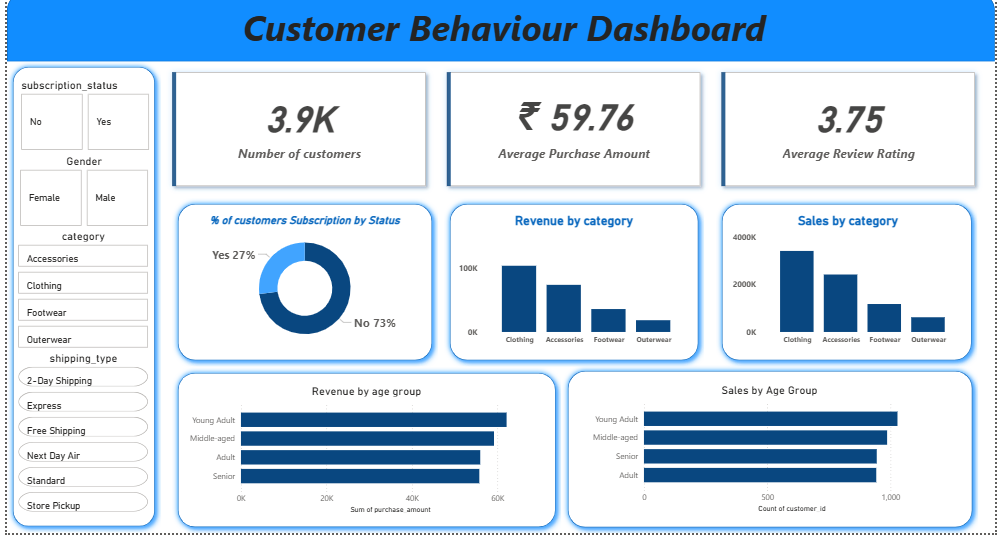

This screenshot's page, from the dashboard's own definition file:
{"tool":"powerbi","page":{"name":"Page 1","canvas":[1500,820],"ordinal":0},"visuals":[{"type":"cardVisual","fields":{"Data":["public customer.Number of customers","public customer.Average Purchase Amount","public customer.Average Review Rating"]},"box":[233.5,104,1254.5,208],"z":0},{"type":"shape","box":[0,0,1500,104],"z":1000},{"type":"textbox","box":[17,10.2,1471,93.8],"z":2000},{"type":"shape","box":[250.6,311.9,404,255.7],"z":3000},{"type":"donutChart","title":"% of customers Subscription by Status","fields":{"Category":["public customer.subscription_status"],"Y":["Count(public customer.customer_id)"]},"box":[267.6,334.1,369.9,209.7],"z":4000},{"type":"shape","box":[663.1,311.9,395.5,255.7],"z":5000},{"type":"shape","box":[1077.3,311.9,397.2,255.7],"z":6000},{"type":"clusteredColumnChart","title":"Revenue by category","fields":{"Y":["Sum(public customer.purchase_amount)"],"Category":["public customer.category"]},"box":[680.1,334.1,361.4,209.7],"z":7000},{"type":"clusteredColumnChart","title":"Sales by category","fields":{"Y":["Sum(public customer.customer_id)"],"Category":["public customer.category"]},"box":[1096,334.1,361.4,209.7],"z":8000},{"type":"shape","box":[0,104,233.5,715.9],"z":9000},{"type":"advancedSlicerVisual","fields":{"Values":["public customer.subscription_status"]},"box":[17,129.5,204.5,114.2],"z":10000},{"type":"advancedSlicerVisual","fields":{"Values":["public customer.gender"]},"box":[15.3,243.8,204.5,114.2],"z":11000},{"type":"advancedSlicerVisual","fields":{"Values":["public customer.category"]},"box":[11.9,358,208,185.8],"z":12000},{"type":"advancedSlicerVisual","fields":{"Values":["public customer.shipping_type"]},"box":[11.9,543.8,208,252.3],"z":13000},{"type":"shape","box":[250.6,567.6,591.5,252.3],"z":15000},{"type":"clusteredBarChart","title":"Revenue by age group","fields":{"Category":["public customer.age_group"],"Y":["Sum(public customer.purchase_amount)"]},"box":[267.6,593.2,557.4,201.1],"z":15001},{"type":"shape","box":[842,564.2,632.4,255.7],"z":15002},{"type":"clusteredBarChart","title":"Sales by Age Group","fields":{"Category":["public customer.age_group"],"Y":["CountNonNull(public customer.customer_id)"]},"box":[879.5,591.5,557.4,201.1],"z":15003}]}

Visuals, with their boxes in screenshot pixels (x1, y1, x2, y2), scaled from the page's 1500x820 canvas onto the 998x535 screenshot:
cardVisual - public customer.Number of customers x public customer.Average Purchase Amount: [155,68,990,204]
shape: [0,0,997,68]
textbox: [11,7,990,68]
shape: [167,203,436,370]
"% of customers Subscription by Status" donutChart: [178,218,424,355]
shape: [441,203,704,370]
shape: [717,203,981,370]
"Revenue by category" clusteredColumnChart: [452,218,693,355]
"Sales by category" clusteredColumnChart: [729,218,970,355]
shape: [0,68,155,534]
advancedSlicerVisual - public customer.subscription_status: [11,84,147,159]
advancedSlicerVisual - public customer.gender: [10,159,146,234]
advancedSlicerVisual - public customer.category: [8,234,146,355]
advancedSlicerVisual - public customer.shipping_type: [8,355,146,519]
shape: [167,370,560,534]
"Revenue by age group" clusteredBarChart: [178,387,549,518]
shape: [560,368,981,534]
"Sales by Age Group" clusteredBarChart: [585,386,956,517]
